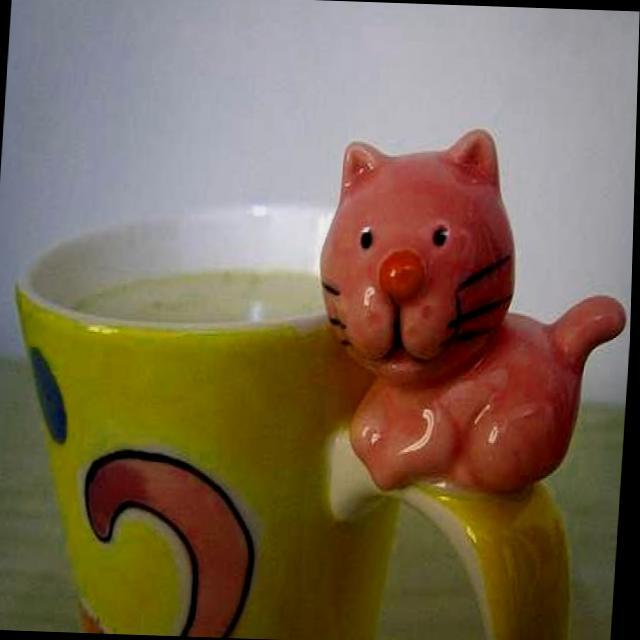cup: (0, 108, 637, 640)
